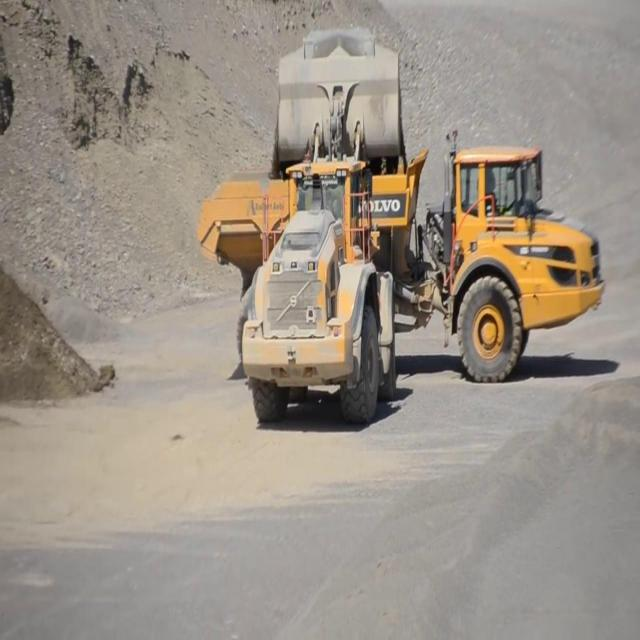buldozerpayloadergrader: (241, 24, 403, 442)
dump_truck: (195, 126, 606, 384)
